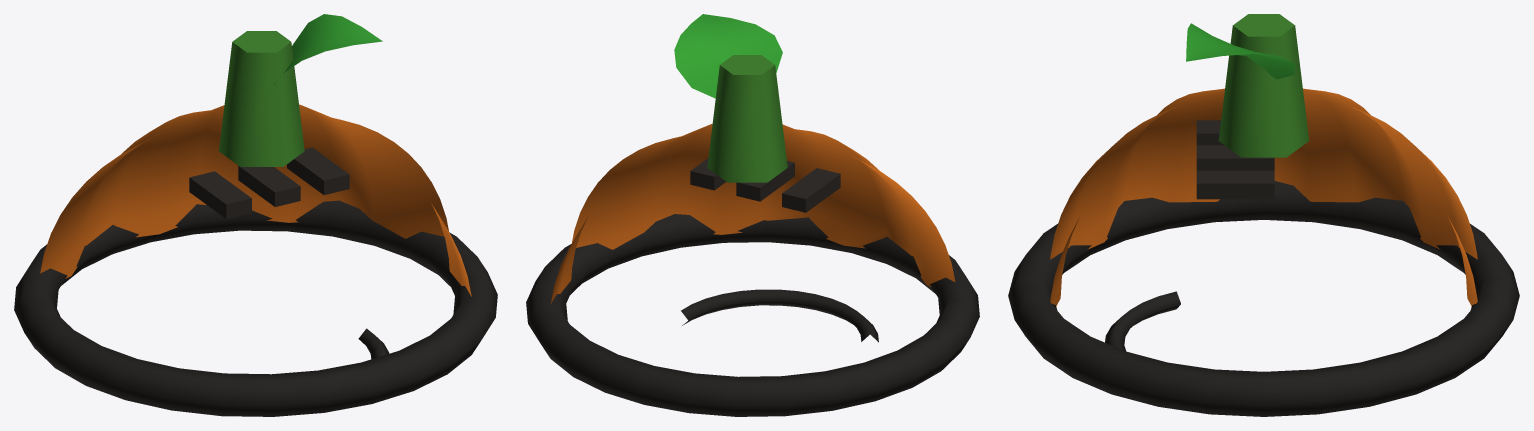
The model's file is helmet_pumpkin_leo.5e14621c.glb.
3 views of the same model, side by side, from view 1: azimuth 30°, elevation 25°; view 2: azimuth 150°, elevation 25°; view 3: azimuth 270°, elevation 25° (orthographic). The views are drawn at different scales.
Parts seen in each view (by area): view 1: helmet_pumpkin_leo; view 2: helmet_pumpkin_leo; view 3: helmet_pumpkin_leo.
Boxes of the visible parts, x1,y1,x2,y2 form: helmet_pumpkin_leo: (14,14,497,416); helmet_pumpkin_leo: (526,14,979,416); helmet_pumpkin_leo: (1008,14,1519,416).
Bounding box in the file's own units: 0.3396 × 0.2494 × 0.3396.
